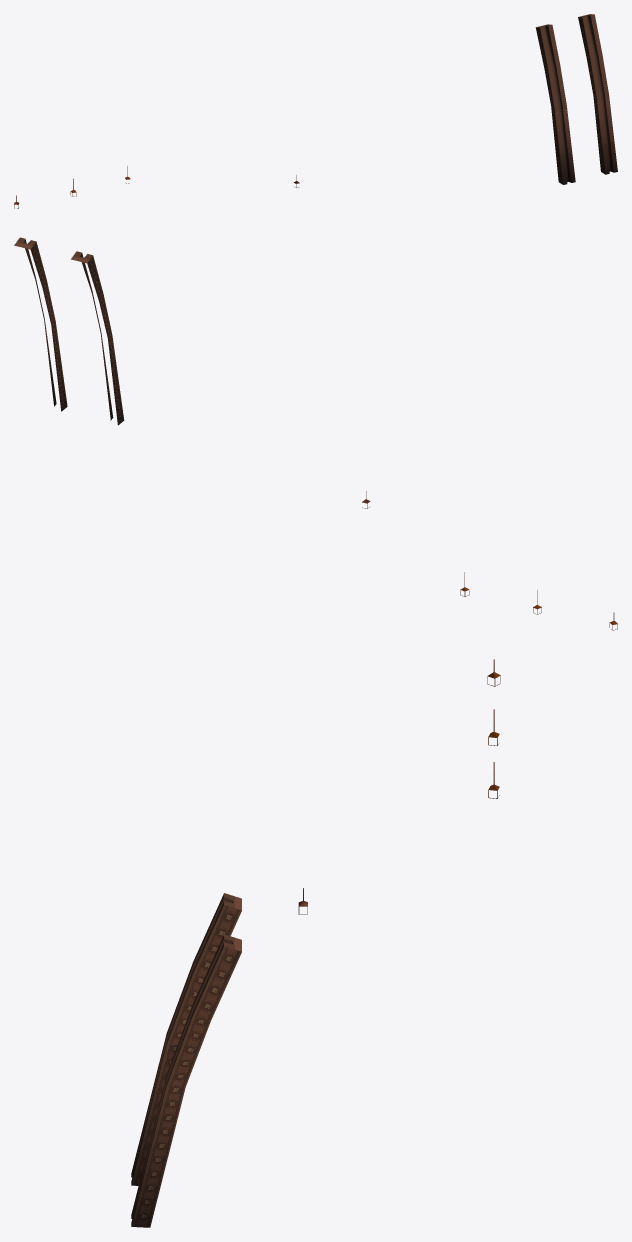
Rendered from level2.glb.
3 views of the same model, one above another, from view 1: azimuth 30°, elevation 25°; view 2: azimuth 150°, elevation 25°; view 3: azimuth 270°, elevation 25° (orthographic). The views are drawn at different scales.
Parts seen in each view (by area): view 1: Level2; view 2: Level2; view 3: Level2.
Part boxes in pixels (<box>): Level2: <box>14,14,617,208</box>; Level2: <box>14,237,617,630</box>; Level2: <box>131,659,500,1227</box>.
Size of what is drawn, in the model's own units: 25.36 by 6.64 by 7.9.
Materials: 1 (1 with a texture image).
